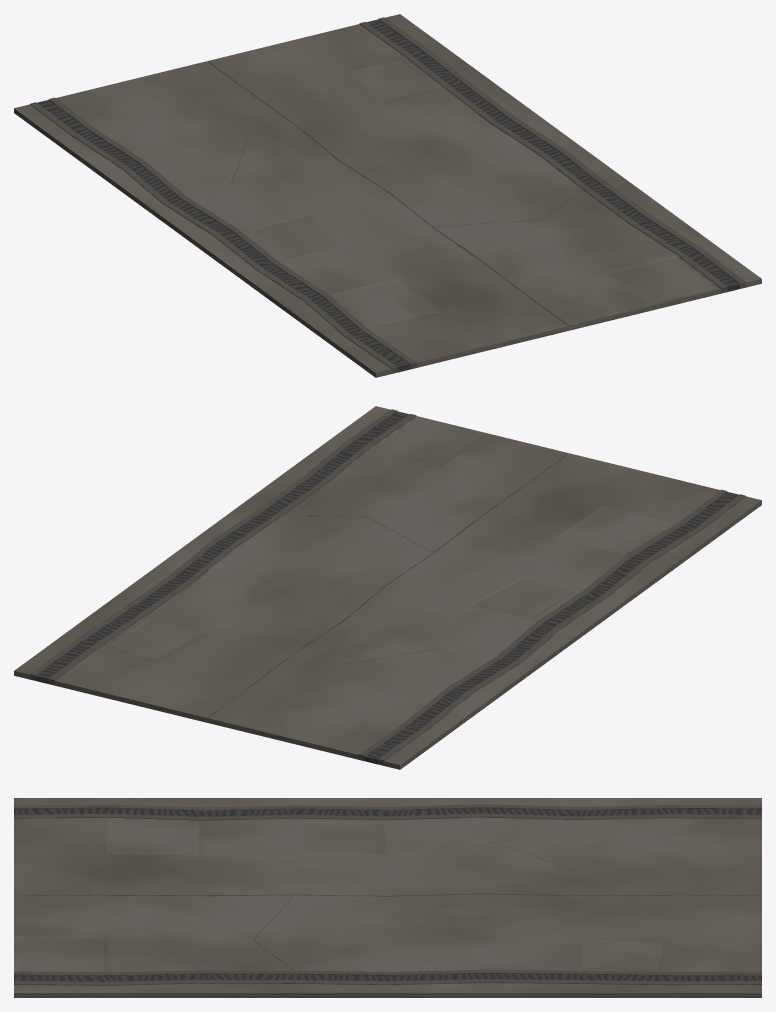
Rendered from set_3_floor.glb.
3 renders of one model, top to bottom at view 1: azimuth 30°, elevation 25°; view 2: azimuth 150°, elevation 25°; view 3: azimuth 270°, elevation 25°, orthographic. The views are drawn at different scales.
Parts seen in each view (by area): view 1: Floor3; view 2: Floor3; view 3: Floor3.
Boxes of the visible parts, x1=… form: Floor3: x1=14, y1=14, x2=761, y2=377; Floor3: x1=14, y1=406, x2=761, y2=769; Floor3: x1=14, y1=798, x2=761, y2=997.
Bounding box in the file's own units: 5.17 × 0.0706 × 8.39.
4 materials, 4 textured.
